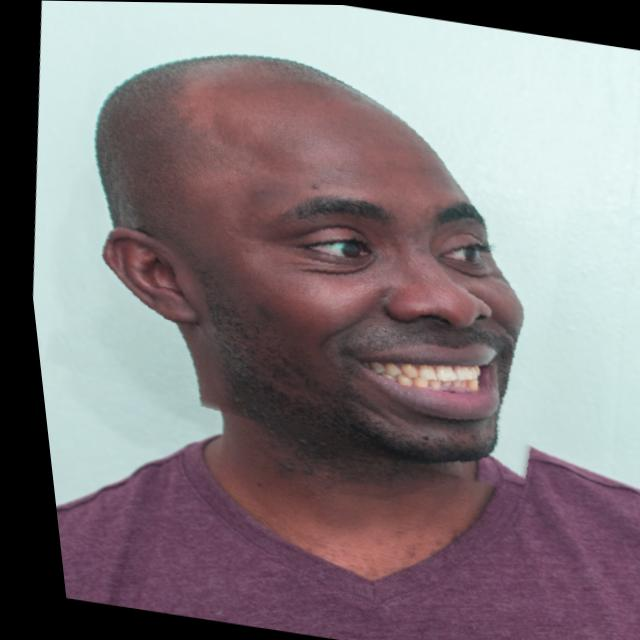happy: (8, 4, 605, 486)
